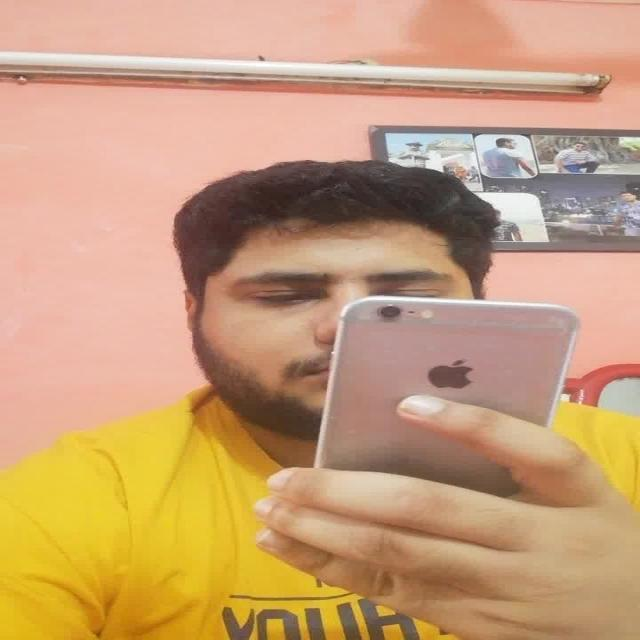Phone: (314, 297, 582, 469)
